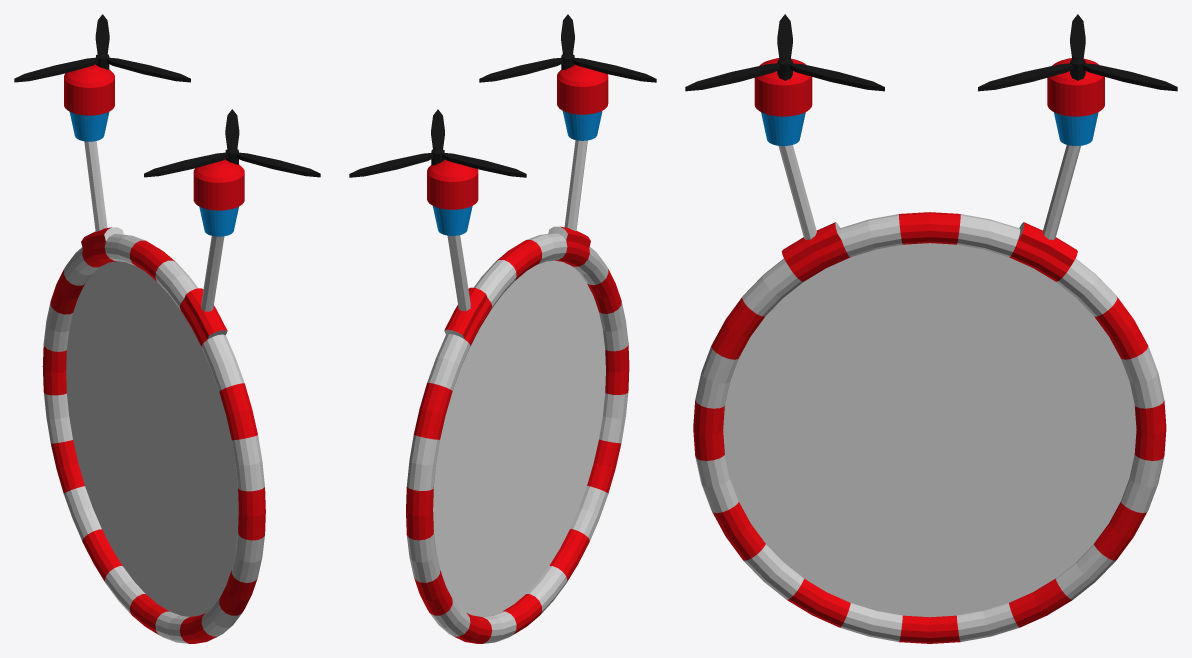
The model's file is Кольцо.fbx.
3 renders of one model, left to right at view 1: azimuth 30°, elevation 25°; view 2: azimuth 150°, elevation 25°; view 3: azimuth 270°, elevation 25°, orthographic. The views are drawn at different scales.
Visible parts, largest first — view 1: Circle, Цилиндр, Цилиндр.003, Цилиндр.001; view 2: Circle, Цилиндр, Цилиндр.001, Цилиндр.003; view 3: Circle, Цилиндр, Цилиндр.003, Цилиндр.001.
Part boxes in pixels (x1,y1,x2,y2): Circle: (66, 261, 238, 616); Цилиндр: (42, 64, 265, 643); Цилиндр.003: (144, 109, 320, 177); Цилиндр.001: (14, 14, 190, 82); Circle: (433, 260, 605, 616); Цилиндр: (406, 64, 629, 643); Цилиндр.001: (349, 109, 526, 177); Цилиндр.003: (479, 14, 656, 82); Circle: (723, 243, 1136, 617); Цилиндр: (693, 58, 1166, 643); Цилиндр.003: (685, 14, 884, 91); Цилиндр.001: (978, 14, 1177, 91).
Bounding box in the file's own units: 118 × 446 × 336.
